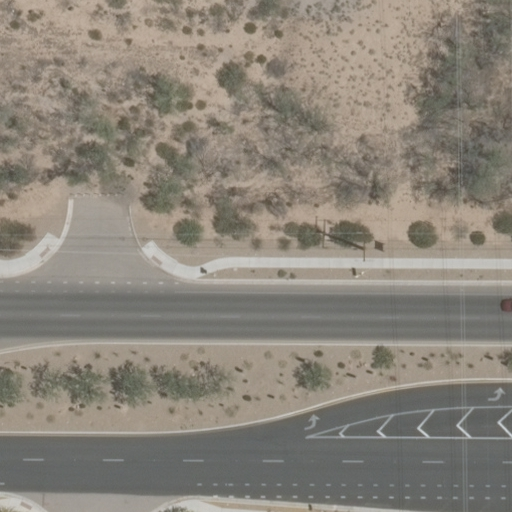DT: (348, 227, 376, 264)
